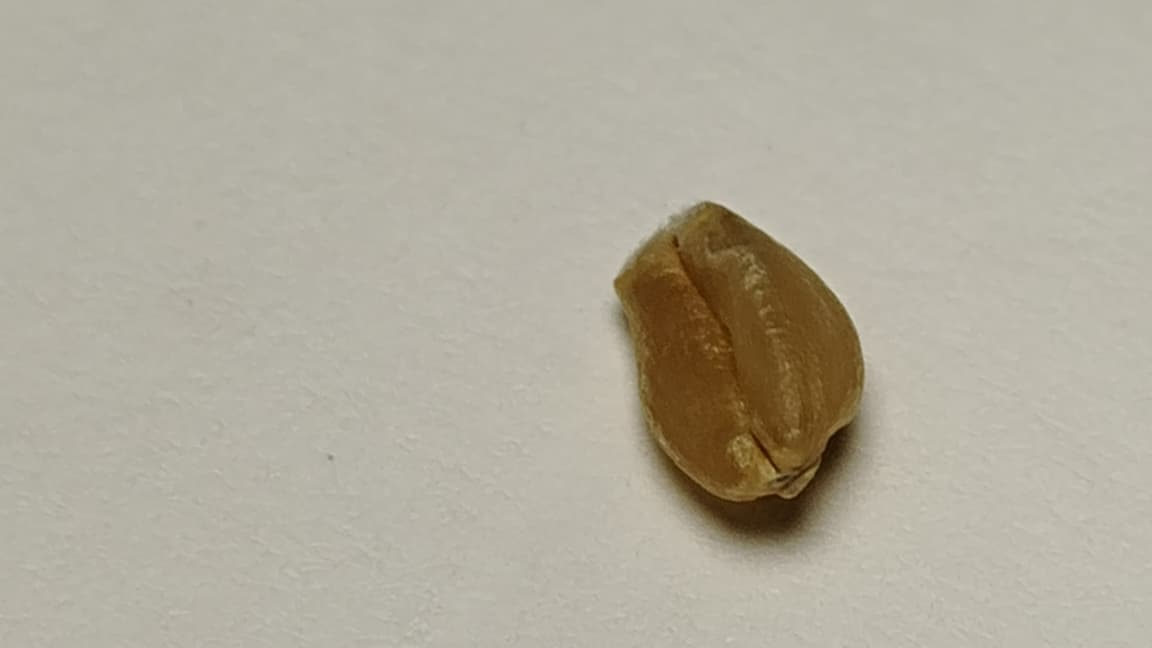healthy: (613, 200, 865, 508)
